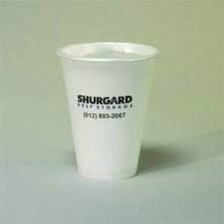paper_cup: (50, 37, 164, 186)
